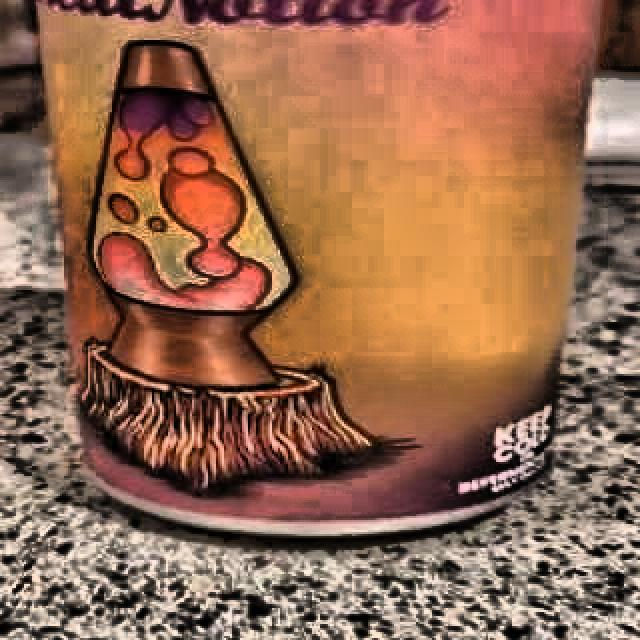metal: (12, 0, 626, 560)
